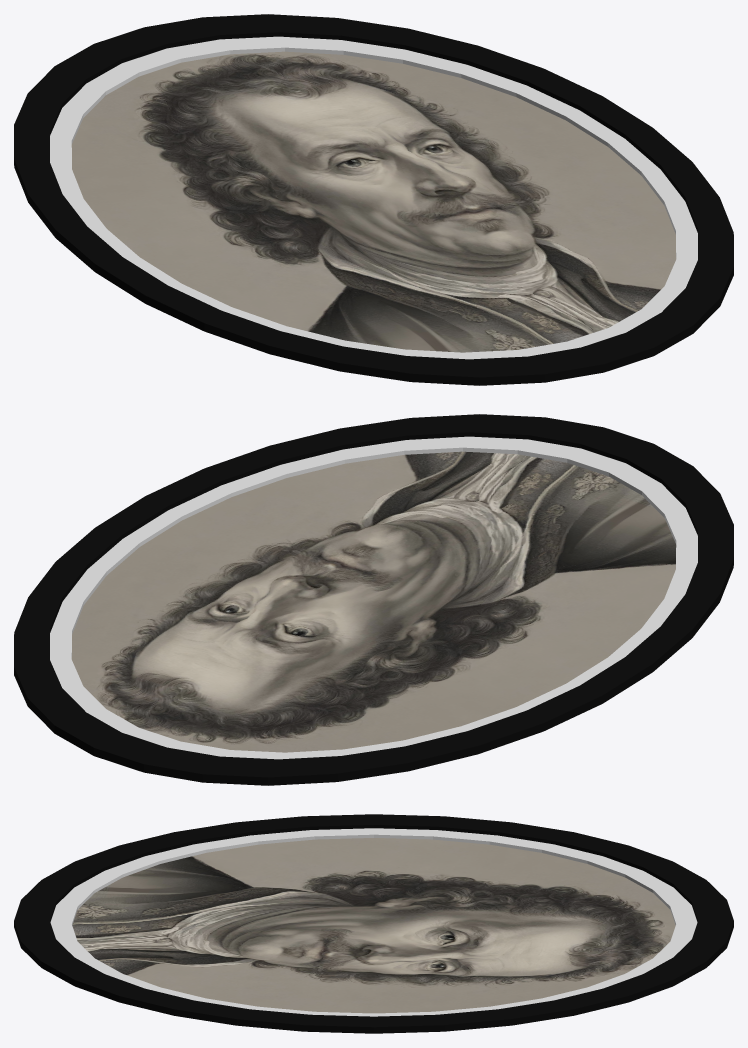
The model's file is RoundFrame.fbx.
3 views of the same model, one above another, from view 1: azimuth 30°, elevation 25°; view 2: azimuth 150°, elevation 25°; view 3: azimuth 270°, elevation 25° (orthographic). The views are drawn at different scales.
Parts seen in each view (by area): view 1: Cylinder.001, Cylinder, Cylinder.002; view 2: Cylinder.001, Cylinder, Cylinder.002; view 3: Cylinder.001, Cylinder, Cylinder.002.
Boxes of the visible parts, box(x1,y1,x2,y2) form: Cylinder.001: box(71, 51, 676, 352); Cylinder: box(14, 14, 733, 385); Cylinder.002: box(50, 36, 697, 359); Cylinder.001: box(71, 451, 676, 752); Cylinder: box(14, 414, 733, 785); Cylinder.002: box(50, 436, 697, 759); Cylinder.001: box(72, 838, 675, 1013); Cylinder: box(14, 814, 733, 1033); Cylinder.002: box(50, 828, 697, 1016).
Size of the model in its own units: 70 by 1 by 100.
Materials: 3 (1 with a texture image).
